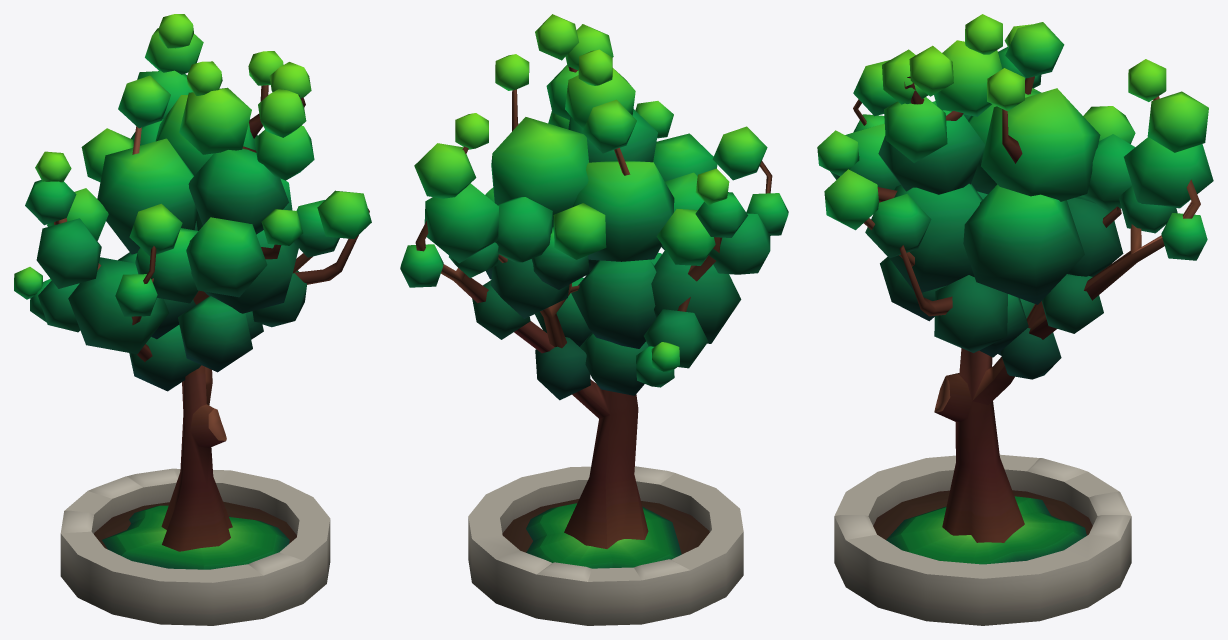
The model's file is Tree_1D.fbx.
3 views of the same model, side by side, from view 1: azimuth 30°, elevation 25°; view 2: azimuth 150°, elevation 25°; view 3: azimuth 270°, elevation 25° (orthographic). The views are drawn at different scales.
Visible parts, largest first — view 1: Tree_1D; view 2: Tree_1D; view 3: Tree_1D.
Boxes of the visible parts, x1,y1,x2,y2 form: Tree_1D: (14,14,371,625); Tree_1D: (400,14,788,625); Tree_1D: (817,14,1213,625).
Bounding box in the file's own units: 504 × 821 × 534.
